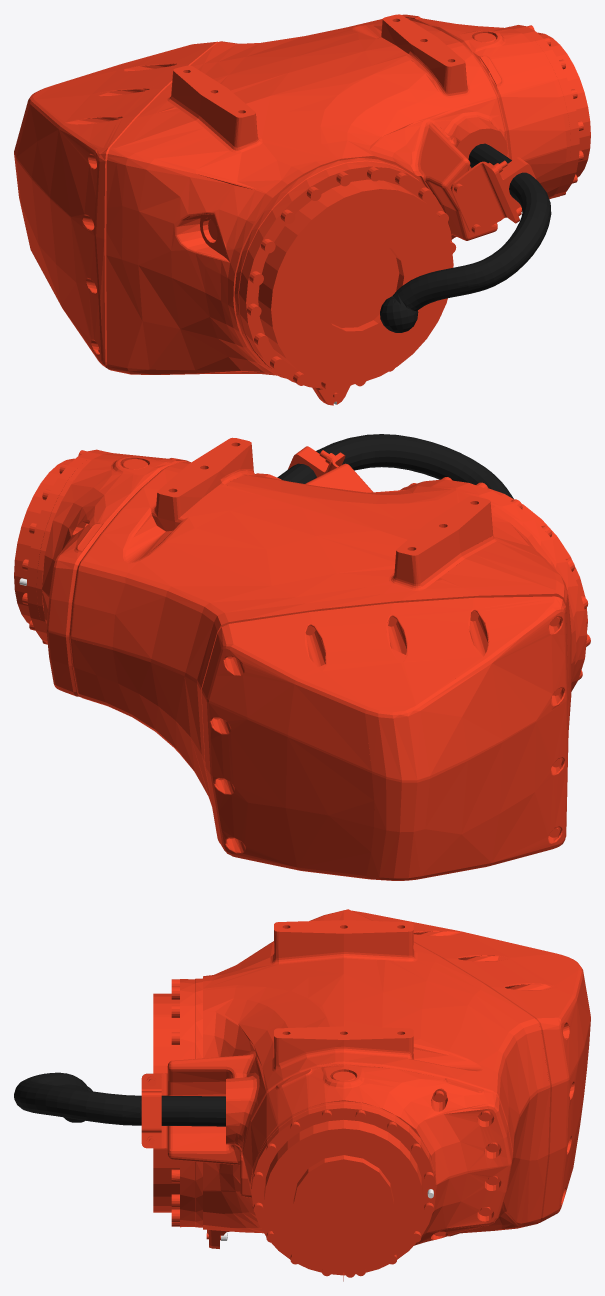
3 views of the same model, one above another, from view 1: azimuth 30°, elevation 25°; view 2: azimuth 150°, elevation 25°; view 3: azimuth 270°, elevation 25° (orthographic). The views are drawn at different scales.
Parts seen in each view (by area): view 1: link_3; view 2: link_3; view 3: link_3.
Part boxes in pixels (box(x1,y1,x2,y2)): link_3: box(14, 14, 590, 405); link_3: box(14, 434, 590, 880); link_3: box(14, 909, 590, 1281).
Size of the model in its own units: 0.5497 by 0.5737 by 0.3208.
